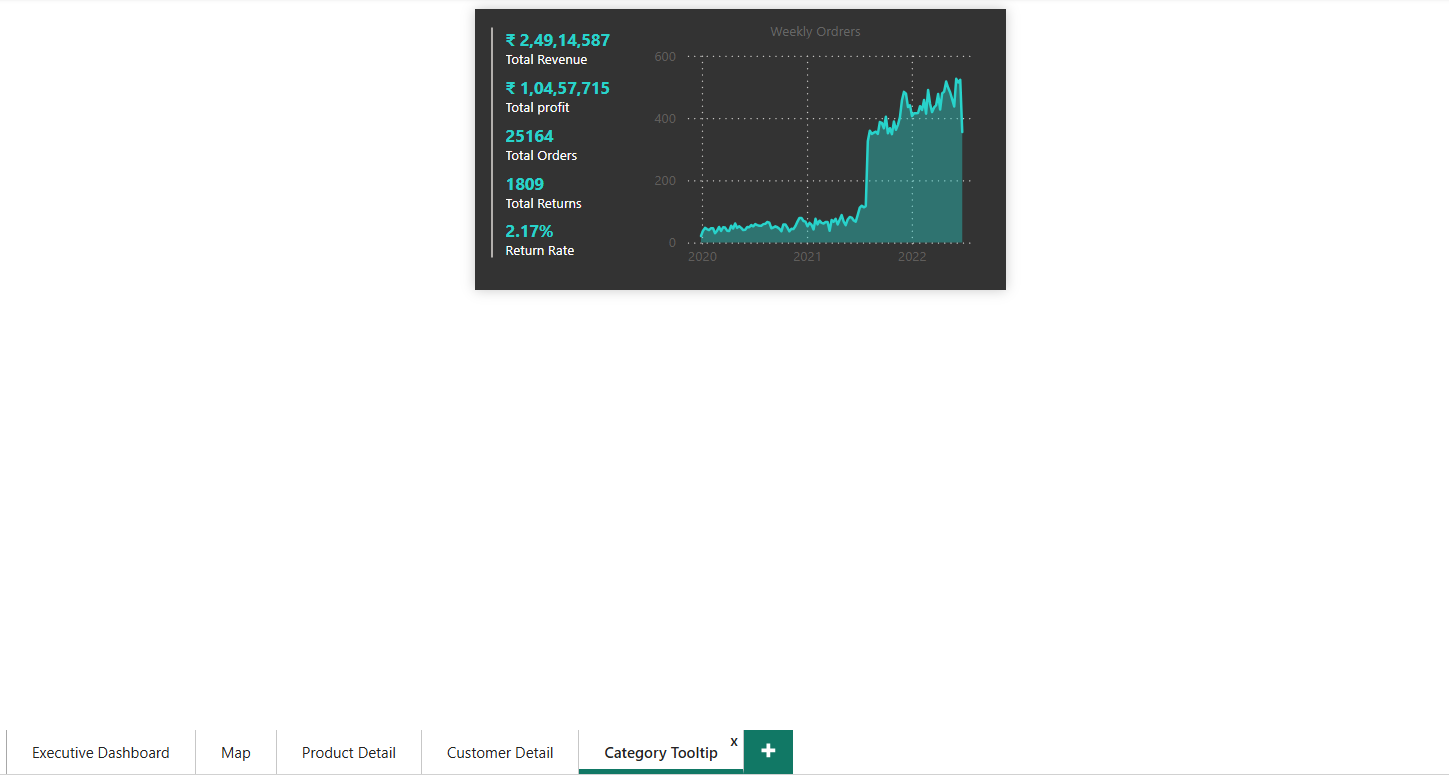

Layout of this report page (visuals, bound fields, positions):
{"tool":"powerbi","page":{"name":"Category Tooltip","canvas":[425,225],"ordinal":4},"visuals":[{"type":"multiRowCard","fields":{"Values":["Measure Table.Total Revenue","Measure Table.Total profit","Measure Table.Total Orders","Measure Table.Total Returns","Measure Table.Return Rate"]},"box":[8,10,146,205],"z":0},{"type":"areaChart","title":" Weekly Ordrers","fields":{"Category":["Calendar Lookup.Start of Week"],"Y":["Measure Table.Total Orders"]},"box":[138,10,269,205],"z":1000}]}

Visuals, with their boxes on the page's 425x225 design canvas (x1, y1, x2, y2). These are canvas units, not pixel positions in the 1449x775 screenshot, which may show the page scaled, cropped or inside an application window:
multiRowCard - Measure Table.Total Revenue x Measure Table.Total profit: 8, 10, 154, 215
" Weekly Ordrers" areaChart: 138, 10, 407, 215
